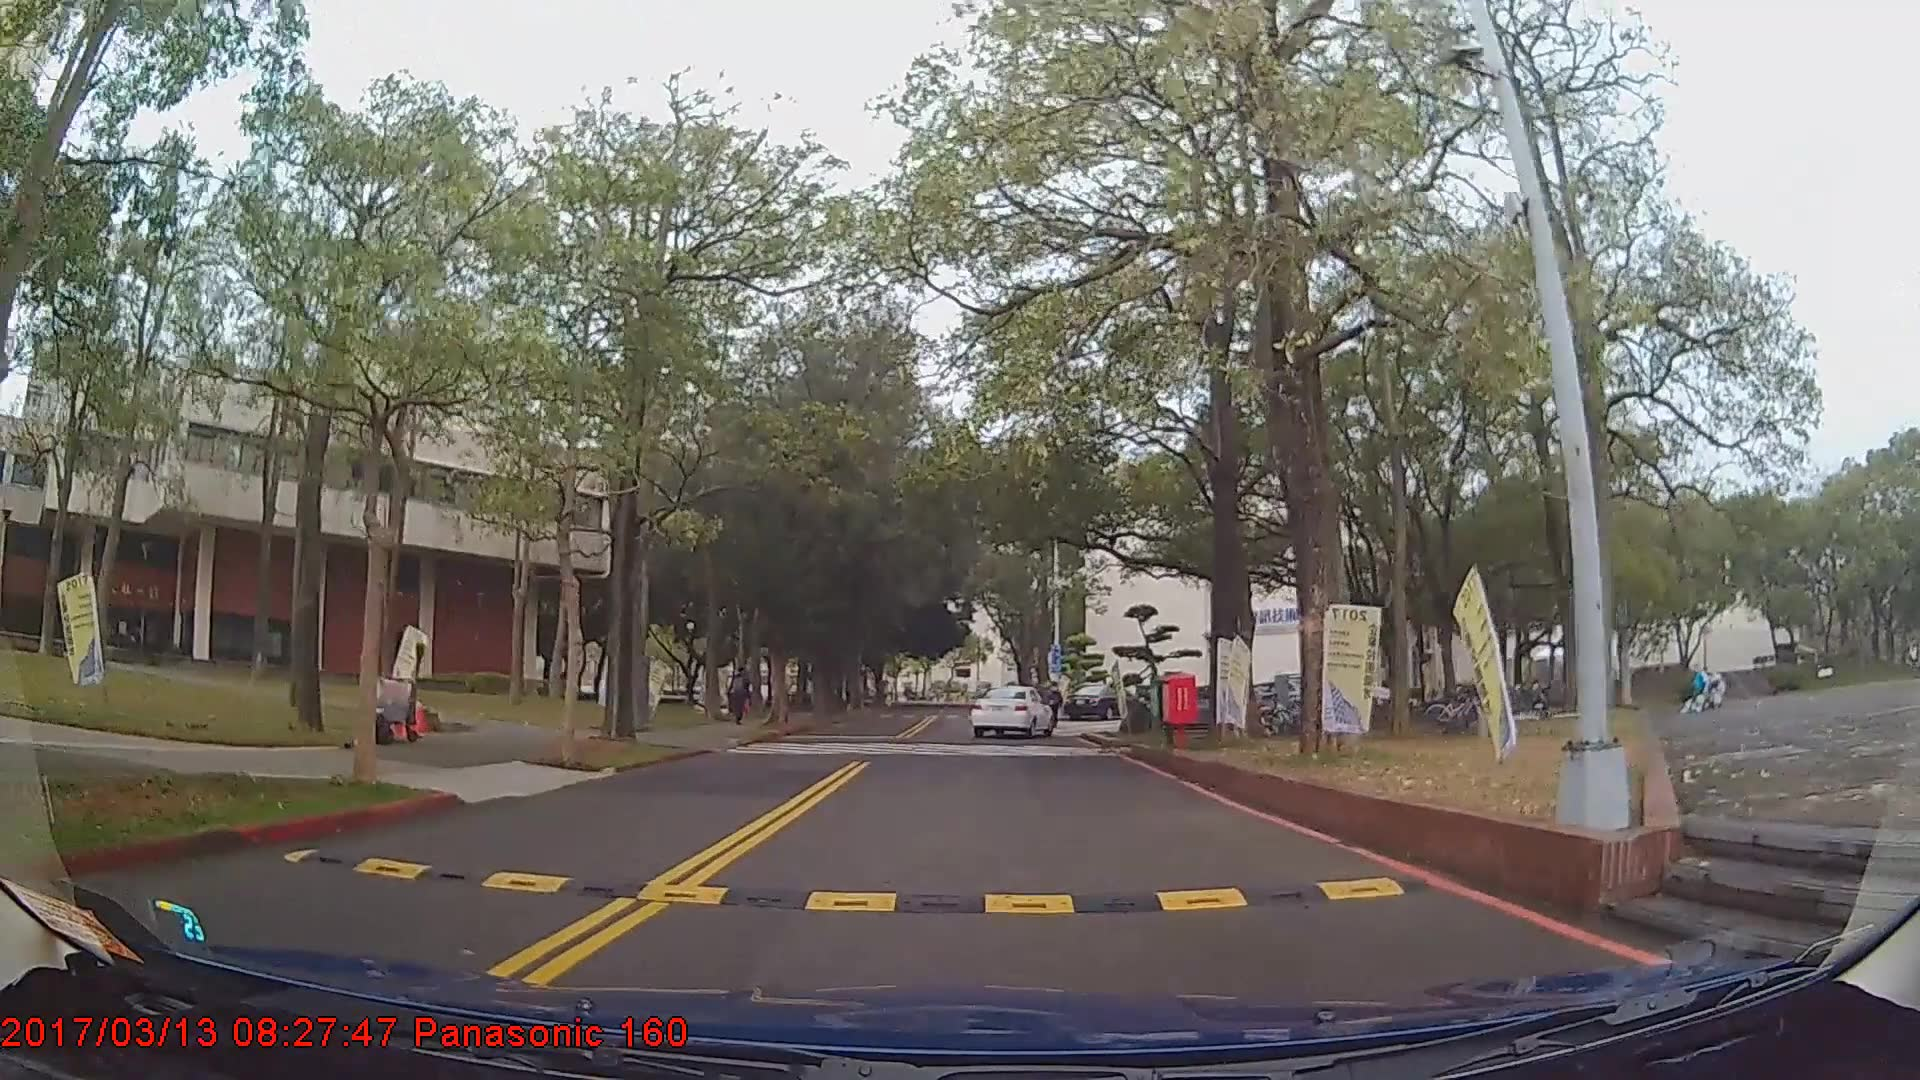pedestrian: (725, 662, 757, 730)
vehicle: (971, 684, 1054, 738), (1065, 683, 1133, 720)
